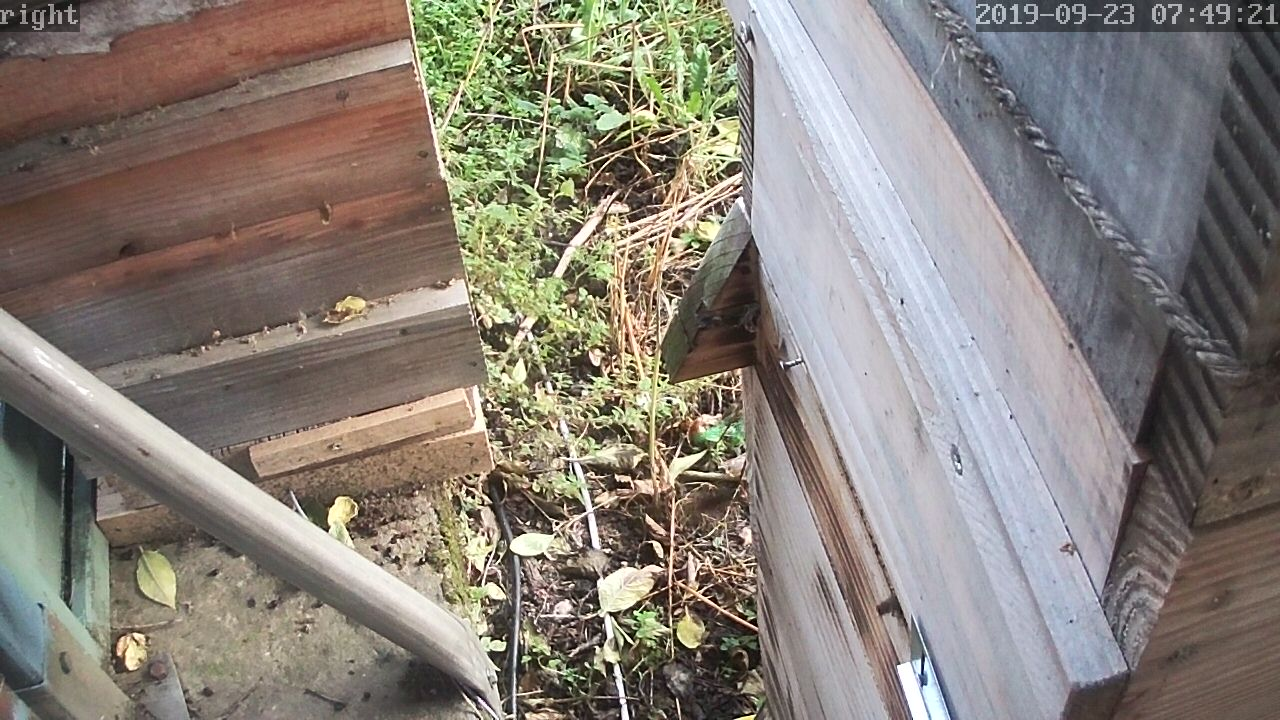hornet: (679, 475, 746, 523)
